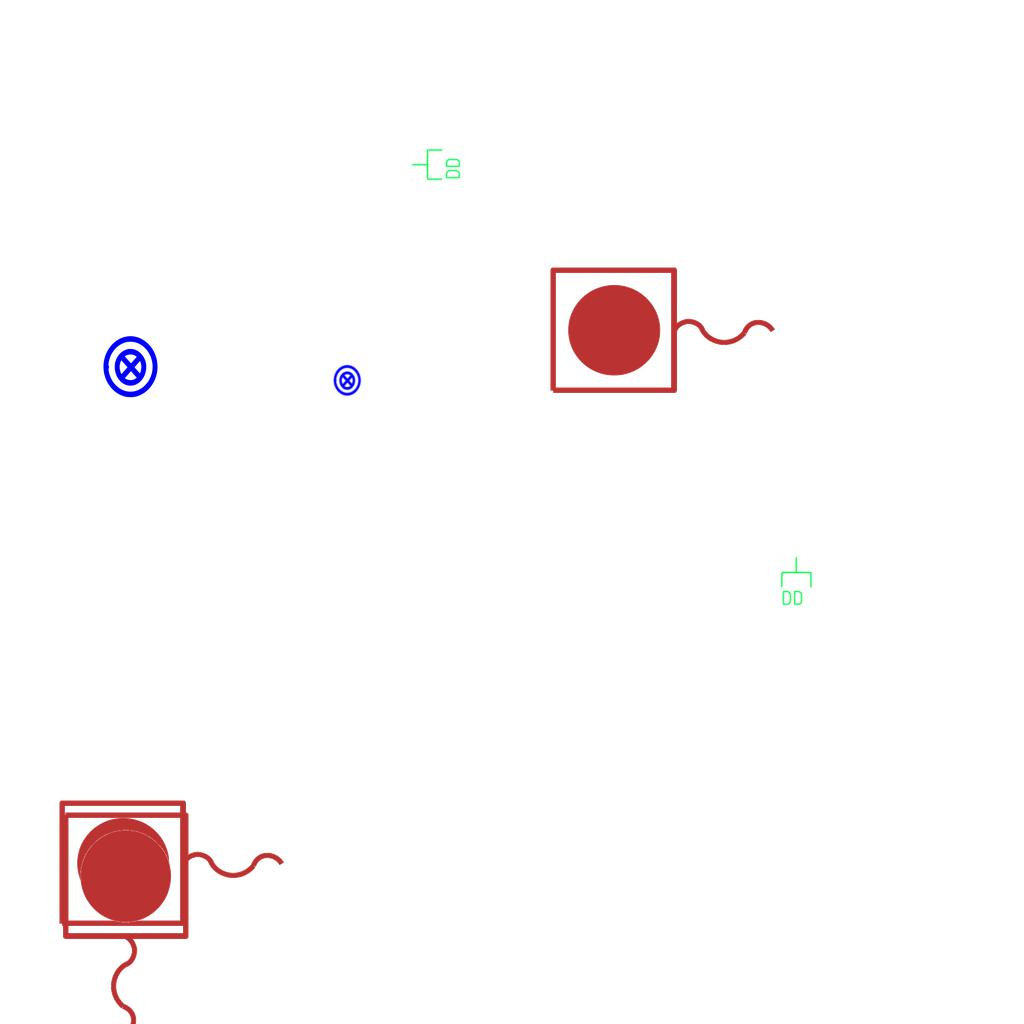Datenanschluss_zweifach: (779, 556, 813, 607), (411, 148, 462, 182)
Taster_beleuchtet: (98, 334, 164, 400), (331, 364, 364, 397)
Zugtaster: (542, 260, 786, 404), (51, 793, 295, 937), (52, 804, 196, 1024)
